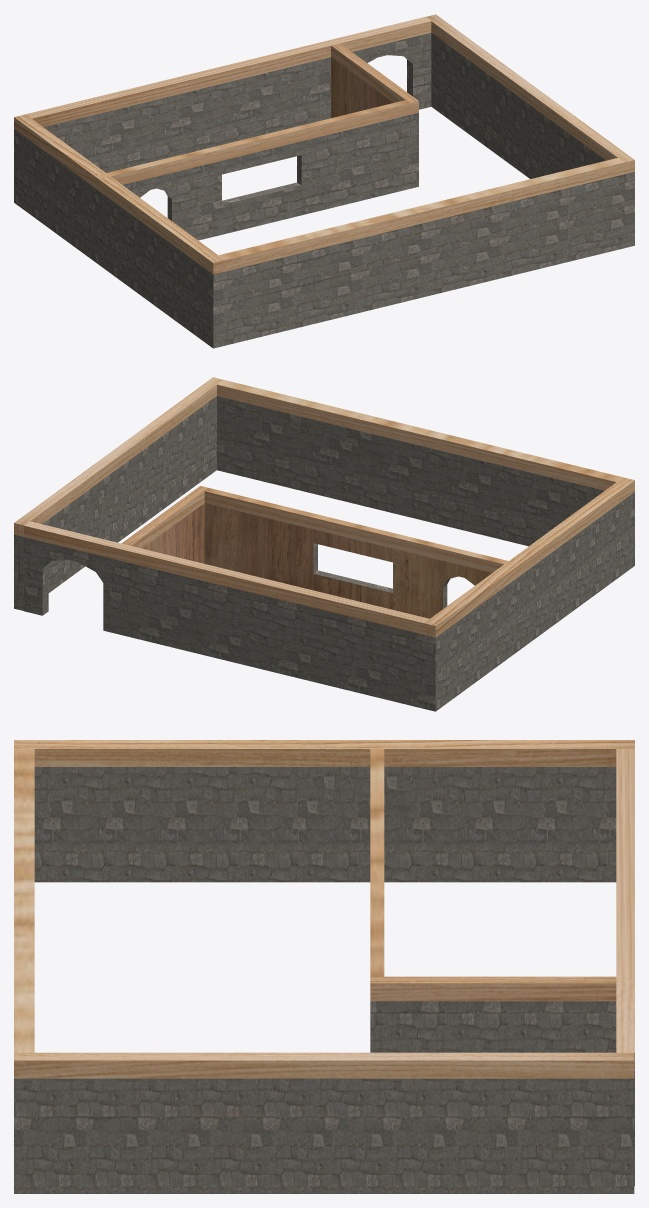
The model's file is TABERNA_paredes.fbx.
3 views of the same model, one above another, from view 1: azimuth 30°, elevation 25°; view 2: azimuth 150°, elevation 25°; view 3: azimuth 270°, elevation 25° (orthographic). The views are drawn at different scales.
Parts seen in each view (by area): view 1: paredesnuevas, bordemaderaparedes; view 2: paredesnuevas, bordemaderaparedes; view 3: paredesnuevas, bordemaderaparedes.
Boxes of the visible parts, left/top/right/bottom form: paredesnuevas: left=14, top=32, right=634, bottom=348; bordemaderaparedes: left=14, top=14, right=634, bottom=274; paredesnuevas: left=14, top=396, right=634, bottom=711; bordemaderaparedes: left=14, top=377, right=634, bottom=637; paredesnuevas: left=14, top=767, right=634, bottom=1193; bordemaderaparedes: left=14, top=740, right=634, bottom=1078.
Bounding box in the file's own units: 1034 × 201 × 847.
3 materials, 3 textured.
